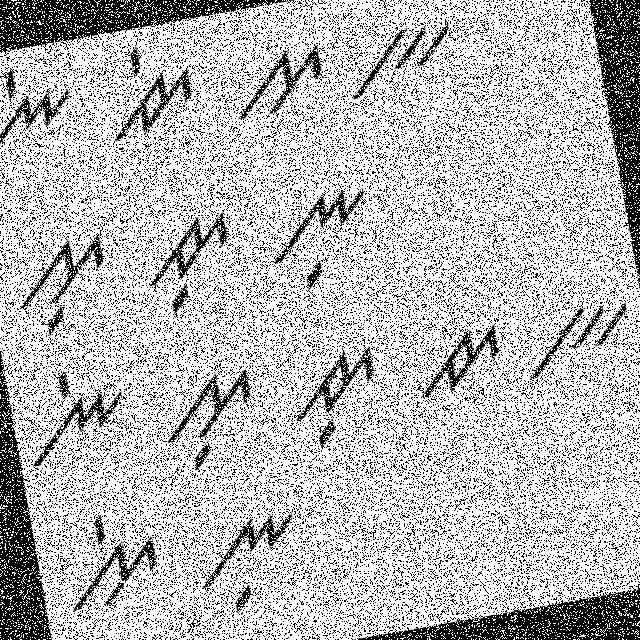ja: (403, 310, 518, 414)
je: (91, 34, 206, 147)
ju: (131, 198, 244, 326), (284, 338, 388, 457)
nye: (12, 351, 144, 478), (0, 53, 85, 178)
nyu: (260, 172, 385, 302), (186, 498, 312, 624)
sa: (222, 29, 338, 130)
se: (51, 499, 172, 622)
su: (5, 222, 120, 340), (151, 358, 267, 474)
